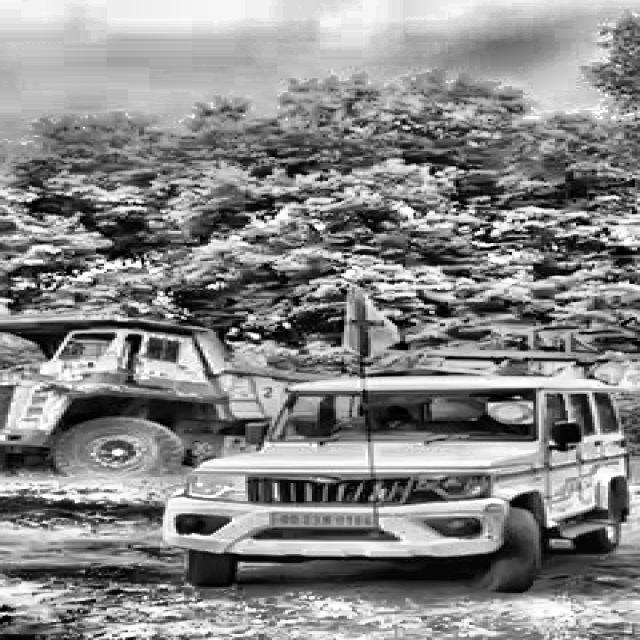light_vehicle: (164, 375, 628, 592)
